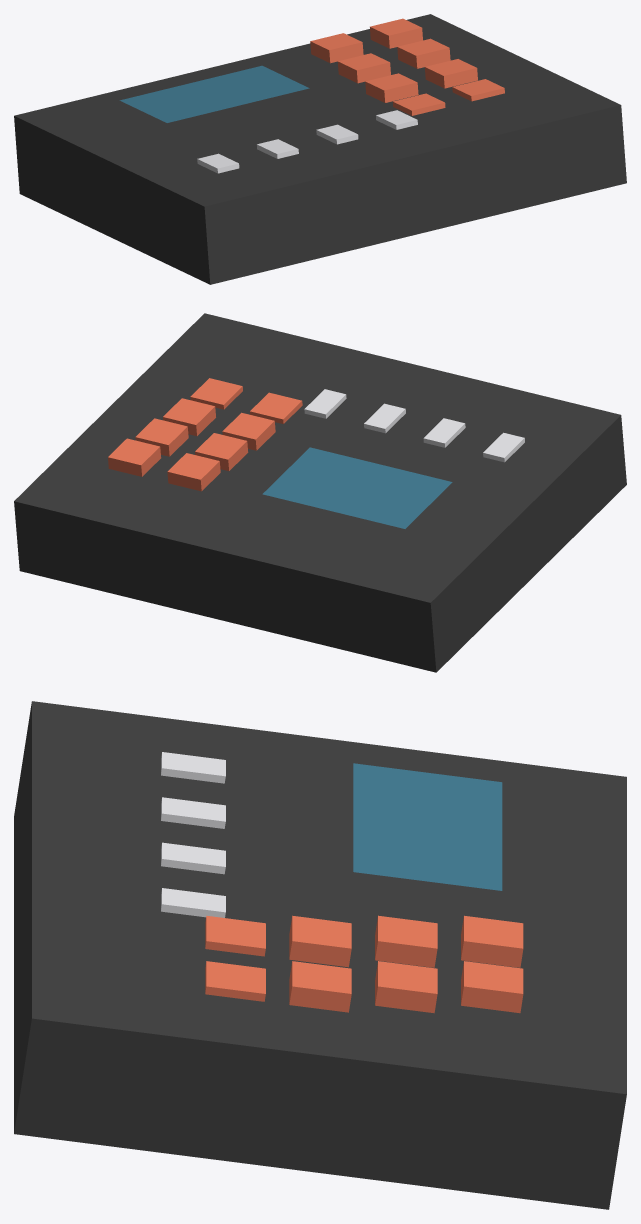
Rendered from podcast_rodecaster.glb.
3 views of the same model, one above another, from view 1: azimuth 30°, elevation 25°; view 2: azimuth 150°, elevation 25°; view 3: azimuth 270°, elevation 25° (orthographic). The views are drawn at different scales.
Parts seen in each view (by area): view 1: Podcast_RodeCaster_Pro; view 2: Podcast_RodeCaster_Pro; view 3: Podcast_RodeCaster_Pro.
Boxes of the visible parts, x1,y1,x2,y2 form: Podcast_RodeCaster_Pro: (14,14,626,284); Podcast_RodeCaster_Pro: (14,313,626,672); Podcast_RodeCaster_Pro: (14,701,626,1209).
Size of the model in its own units: 0.35 by 0.0984 by 0.2856.
